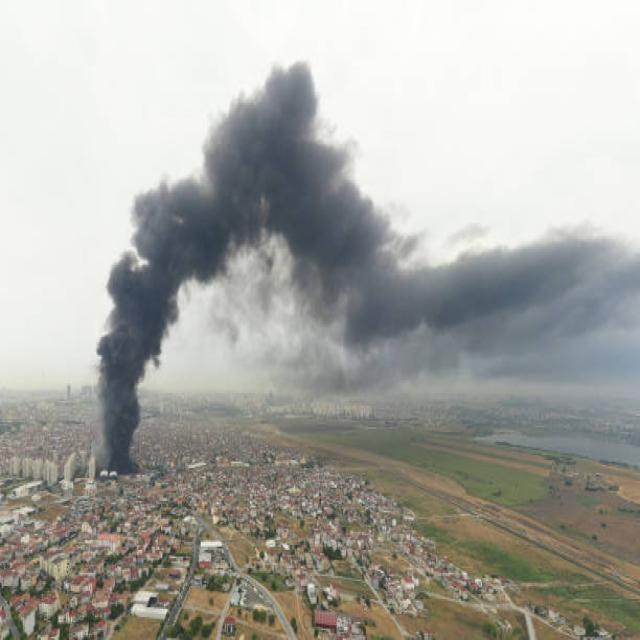Smoke: (88, 56, 367, 477)
